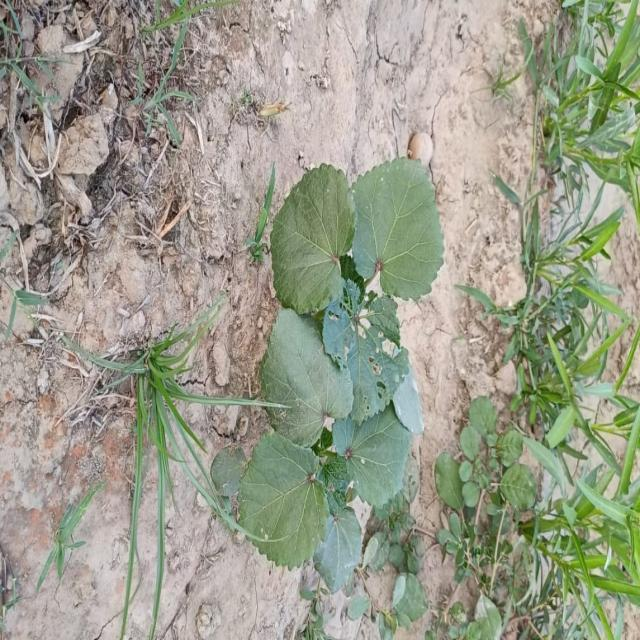plant: (240, 157, 444, 592)
